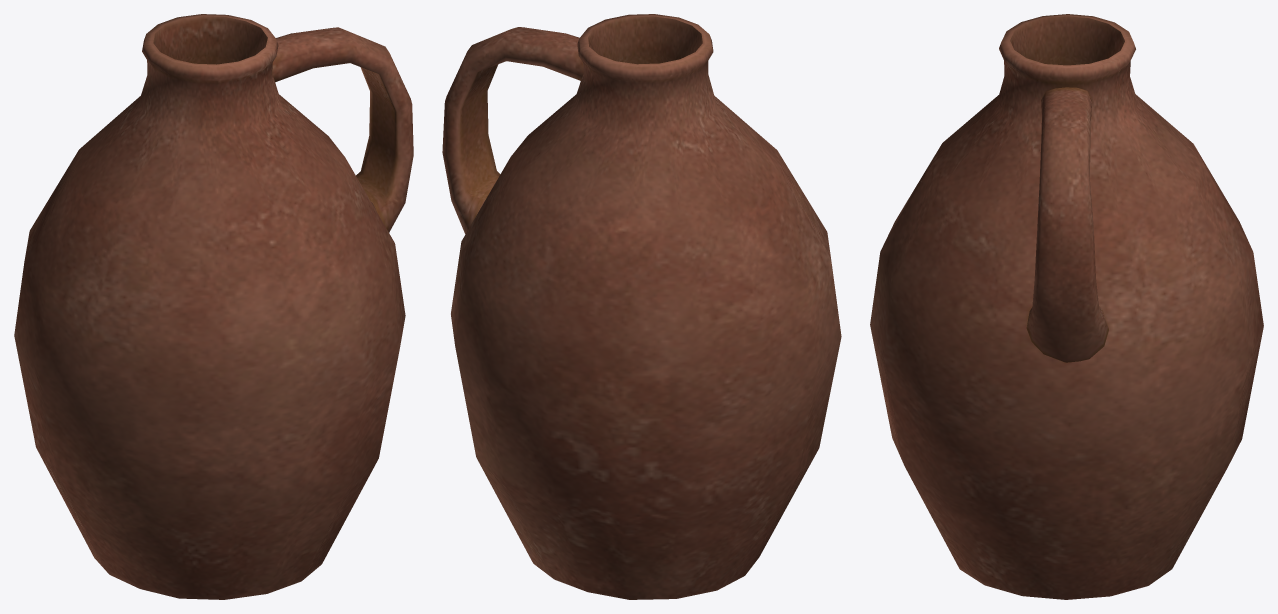
File: o_com_zhuangshi_06.fbx
3 renders of one model, left to right at view 1: azimuth 30°, elevation 25°; view 2: azimuth 150°, elevation 25°; view 3: azimuth 270°, elevation 25°, orthographic.
Visible parts, largest first — view 1: o_com_zhuangshi_06; view 2: o_com_zhuangshi_06; view 3: o_com_zhuangshi_06.
Part boxes in pixels (x1,y1,x2,y2): o_com_zhuangshi_06: (14, 14, 413, 599); o_com_zhuangshi_06: (442, 14, 841, 599); o_com_zhuangshi_06: (870, 14, 1263, 599).
Bounding box in the file's own units: 22.34 × 29.79 × 20.82.
